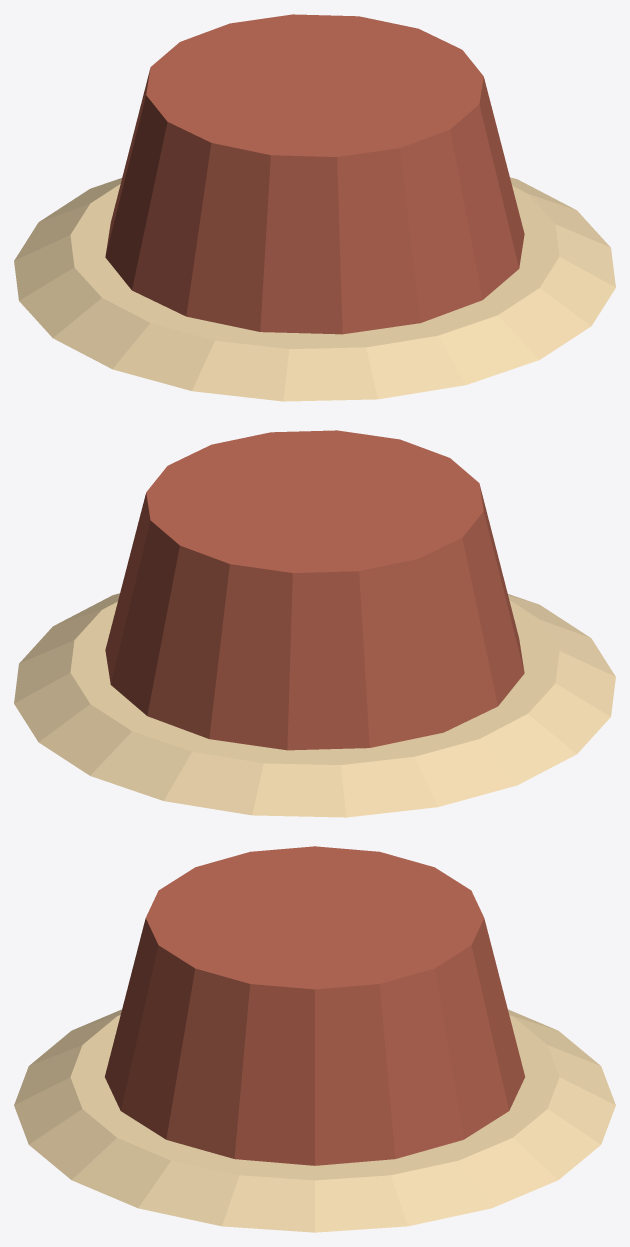
The model's file is outfit_bucket.glb.
The picture shows the model from 3 angles, top to bottom: view 1: azimuth 30°, elevation 25°; view 2: azimuth 150°, elevation 25°; view 3: azimuth 270°, elevation 25°; orthographic projection.
Parts seen in each view (by area): view 1: crown, brim; view 2: crown, brim; view 3: crown, brim.
Part boxes in pixels (left/top/right/bottom): crown: left=105, top=14, right=524, bottom=334; brim: left=14, top=177, right=615, bottom=401; crown: left=105, top=430, right=524, bottom=750; brim: left=14, top=593, right=615, bottom=817; crown: left=105, top=846, right=524, bottom=1165; brim: left=14, top=1009, right=615, bottom=1232.
Bounding box in the file's own units: 0.96 × 0.33 × 0.96.
